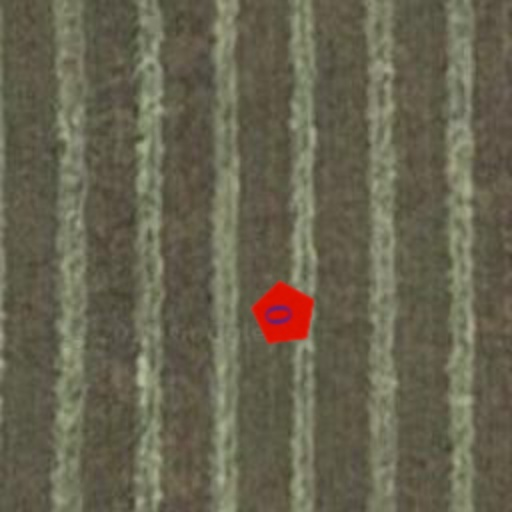pentagon: (244, 274, 324, 354)
